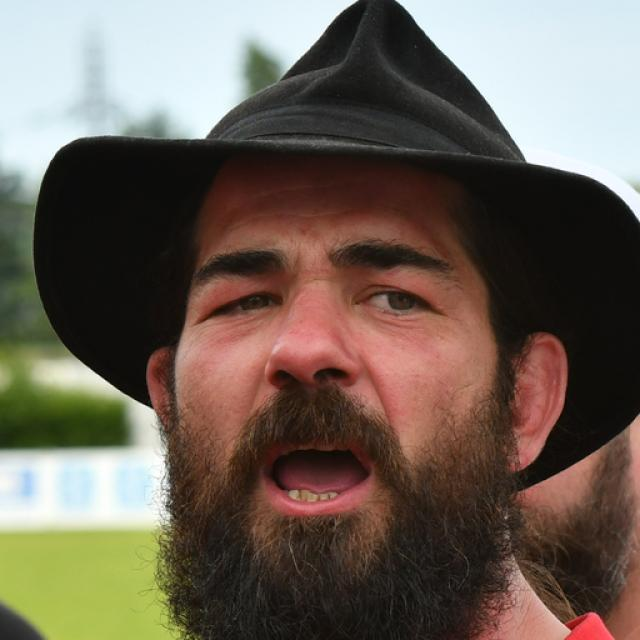sad: (173, 145, 507, 640)
